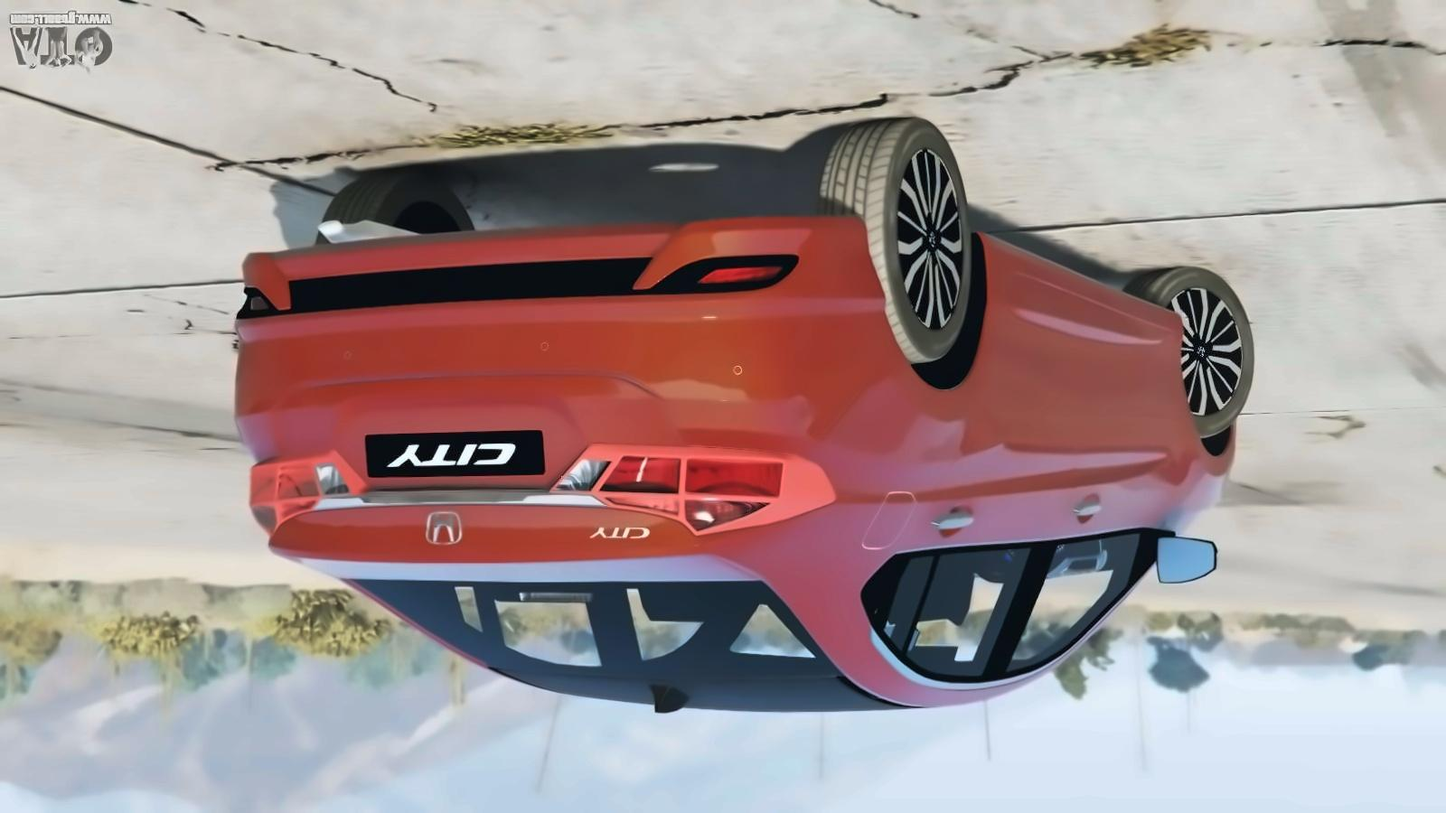Car boot: (216, 341, 874, 590)
Passenger-s door - -F-L-: (1001, 238, 1199, 740)
Passenger-s door - -R-L-: (863, 208, 1076, 712)
Rear bumper: (220, 203, 895, 450)
Rear light - -L-: (555, 448, 810, 543)
Rear light - -R-: (247, 451, 378, 539)
Side bumper - -L-: (967, 217, 1192, 366)
Side mirror - -L-: (1147, 525, 1221, 600)
